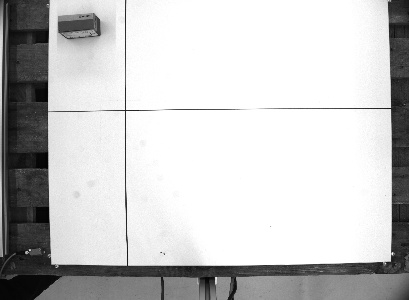b3: (55, 11, 102, 41)
